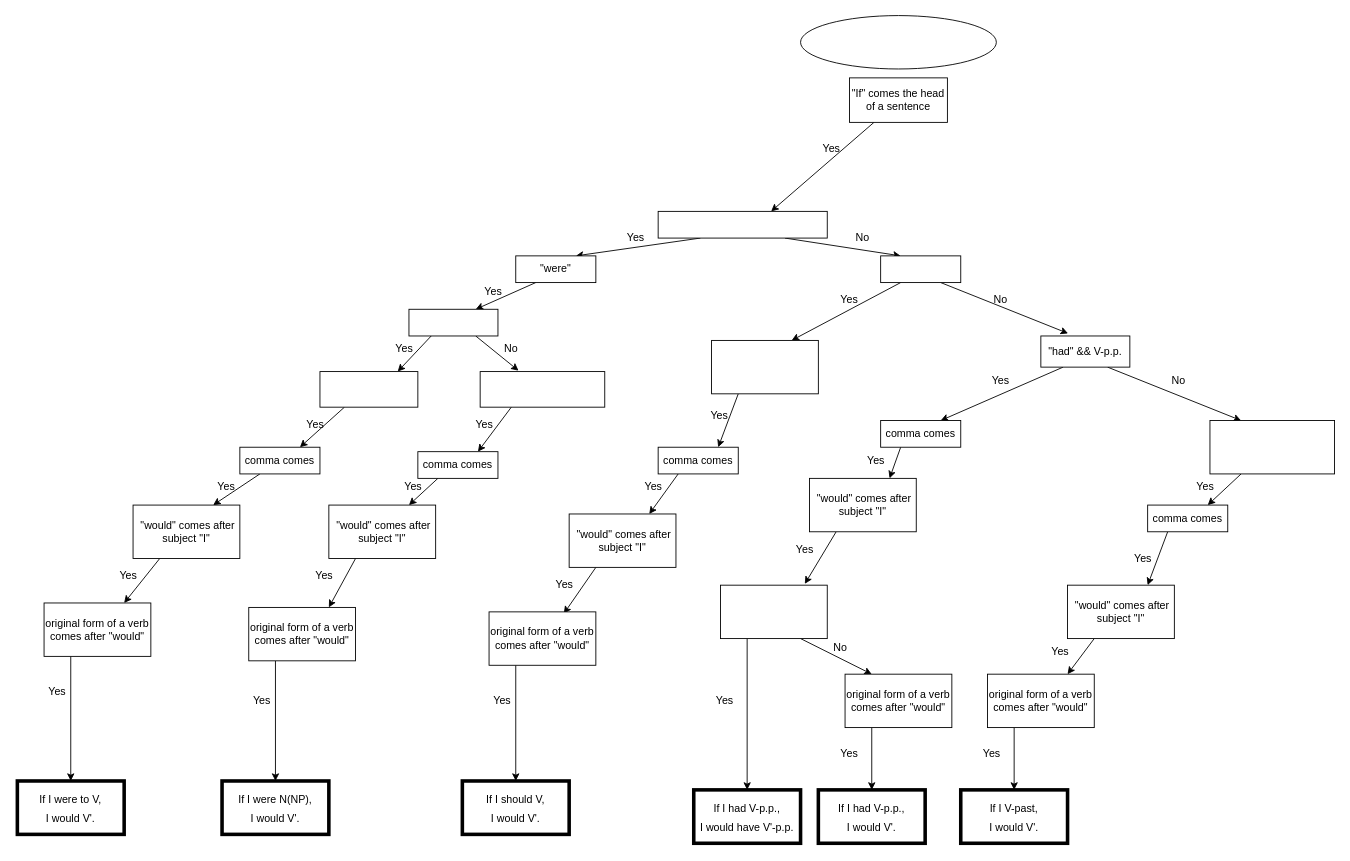
The diagram is 1350 pixels wide and 861 high, and some of its shapes have lost their labels. Here are the shapes that lost their labels. From the top down, the centre of each, then its label:
(x=898, y=42): If I .... , I would .... .
(x=742, y=224): be-Verb comes after subject "I"
(x=920, y=269): "should"
(x=453, y=322): "to"
(x=764, y=367): original form of a verb comes after "should"
(x=368, y=389): original form of verb comes
(x=542, y=389): noun (phrase) or adjective (-tival phrase)
(x=1272, y=447): past form of a verb comes after subject "I"
(x=773, y=611): "have" && V-p.p
